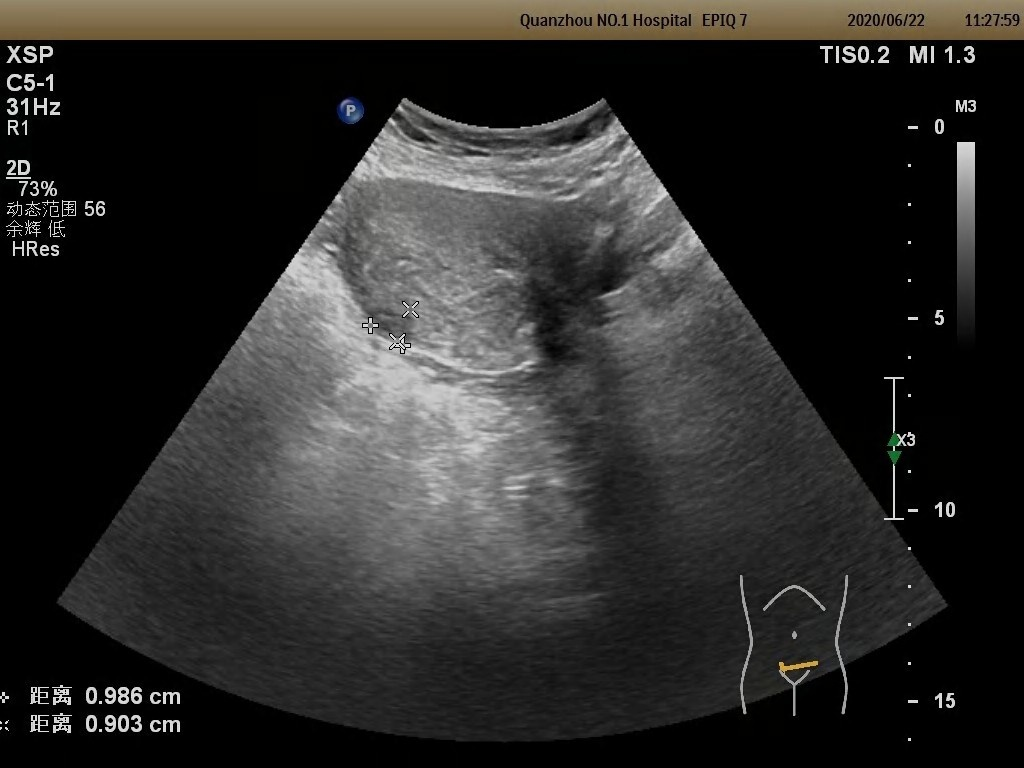肌瘤: (368, 309, 413, 347)
